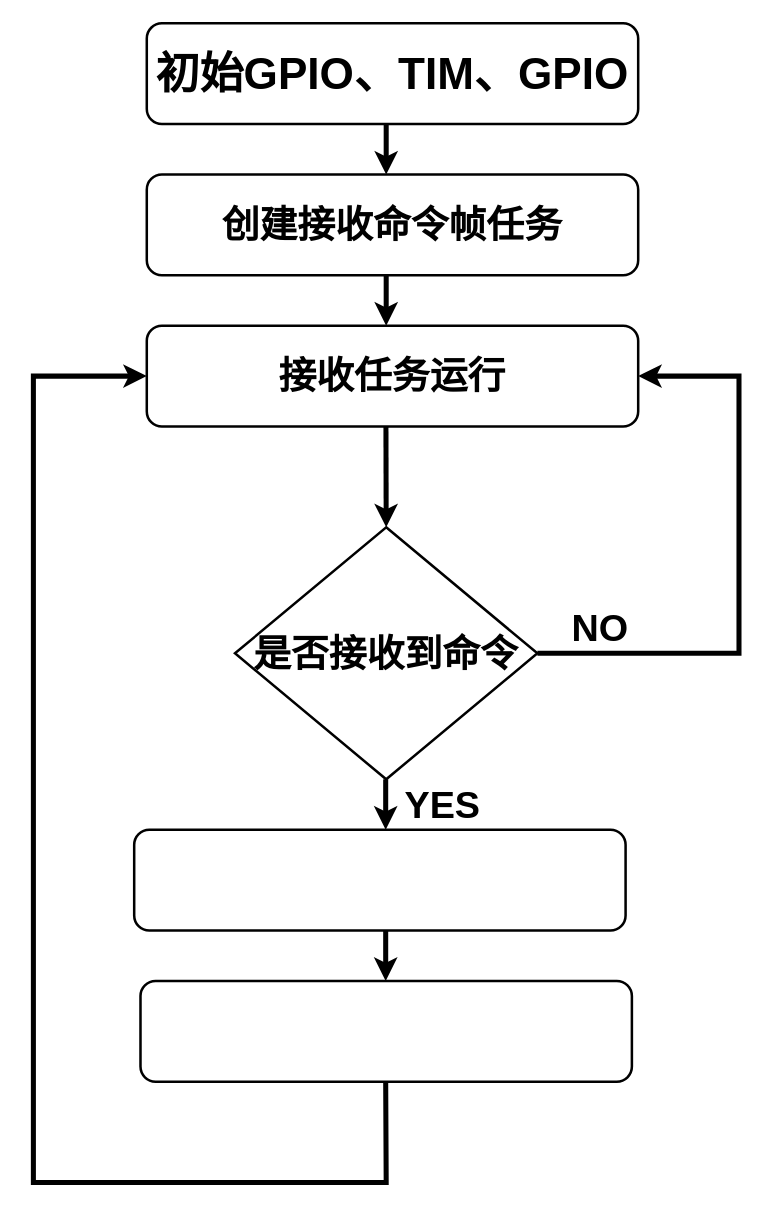
Image size: 772x1216. Some labels were removed from this diagram. The shapes that lost their labels are listed below. From the top down, each one's box as (x1, y1, x2, y2) in pixels, then its label:
(132, 828, 626, 931): 解析命令帧
(139, 979, 633, 1082): 根据命令帧执行相应的命令
